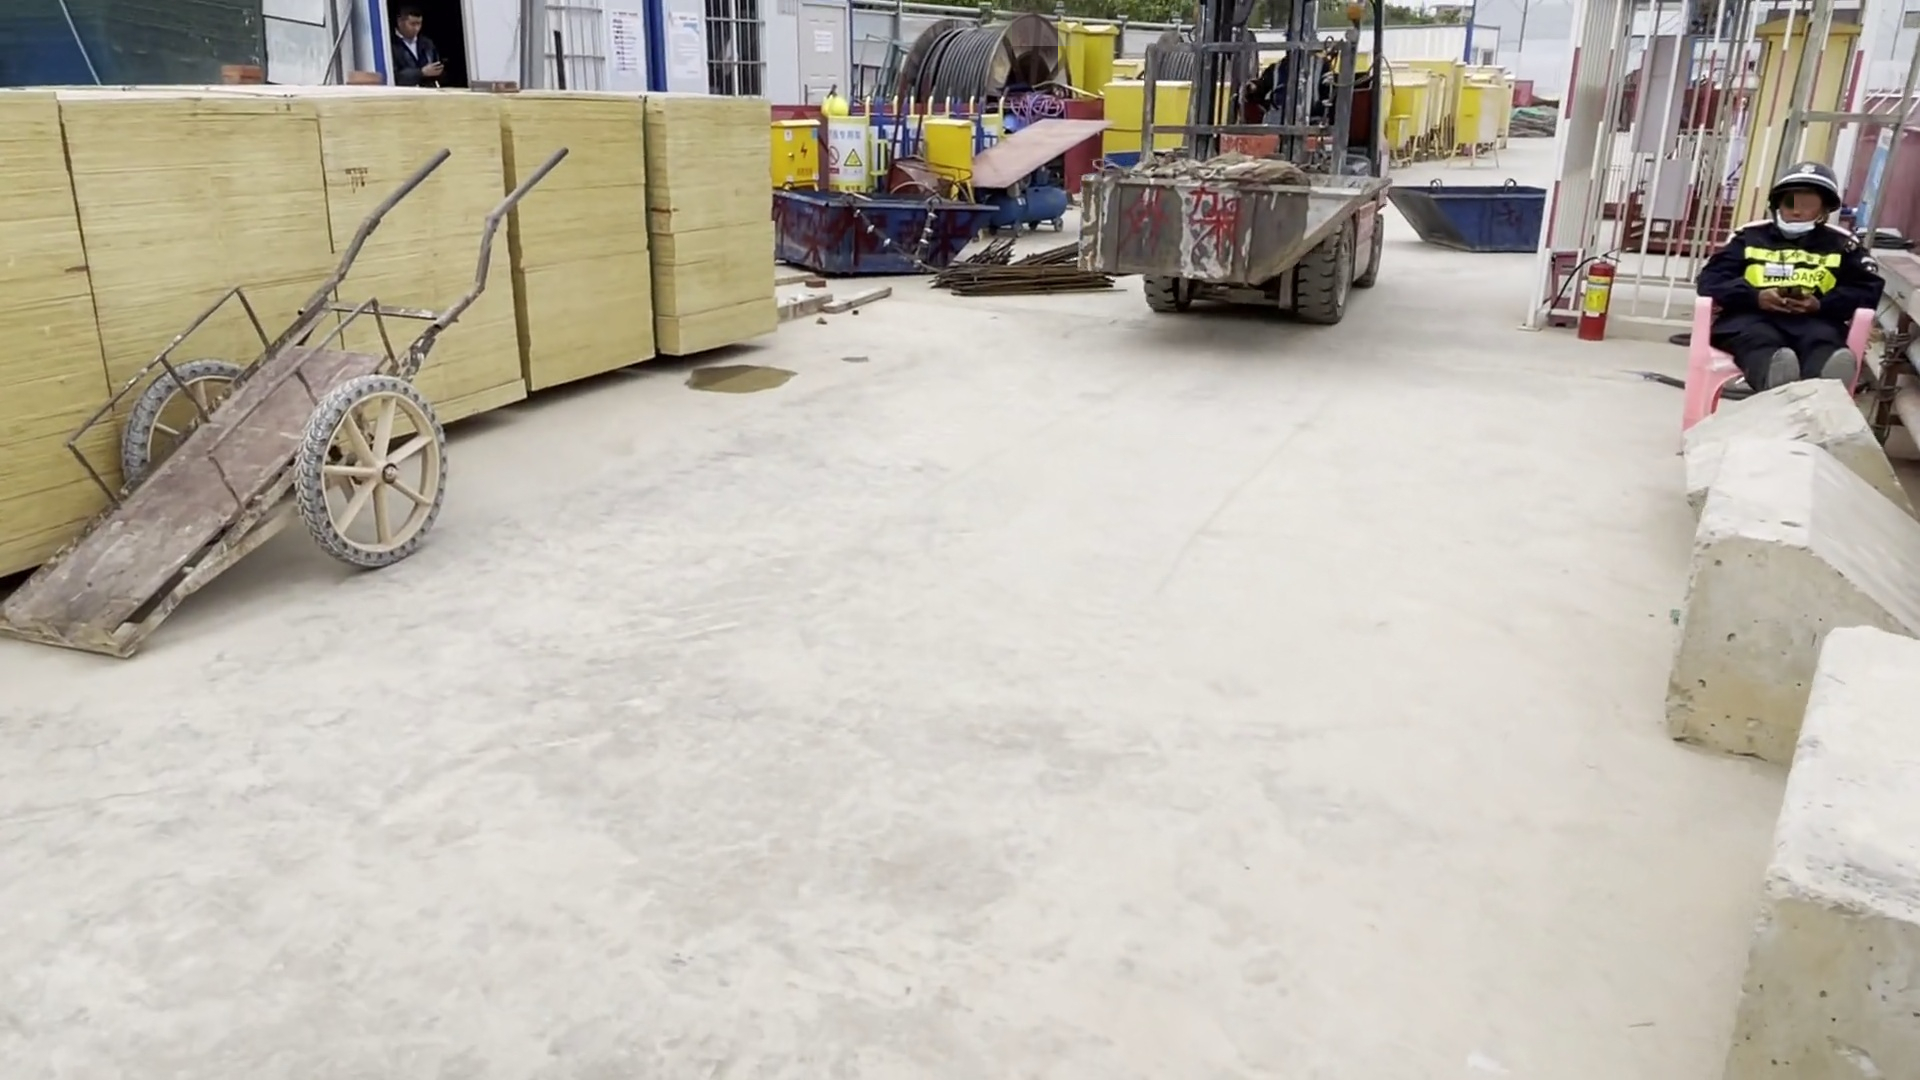ebox: (1106, 82, 1180, 152), (1449, 85, 1500, 166), (926, 111, 985, 181), (774, 115, 820, 197), (1089, 20, 1118, 88), (1380, 112, 1412, 172), (1056, 24, 1084, 91)
handcart: (1, 141, 578, 655)
helmet: (1769, 161, 1851, 195)
hopper: (1087, 165, 1374, 286), (776, 196, 983, 281), (1397, 179, 1548, 255)
person: (1707, 135, 1895, 408)
vest: (1736, 223, 1852, 294)
